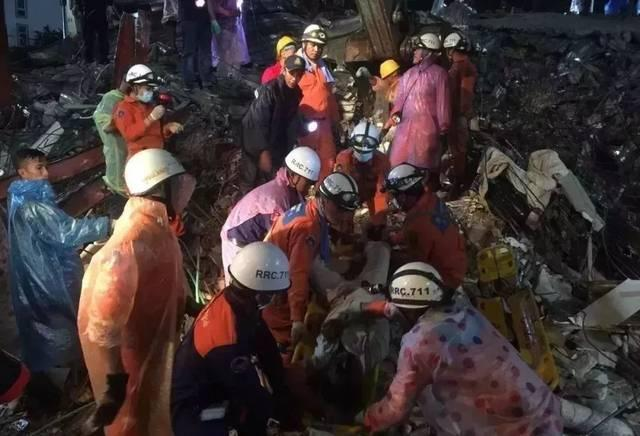helmet: (124, 148, 182, 198), (226, 243, 289, 289), (388, 268, 443, 309), (322, 174, 362, 208), (289, 150, 320, 184), (354, 120, 382, 154), (389, 165, 418, 196), (126, 66, 157, 90), (305, 21, 330, 44), (416, 33, 443, 53), (274, 37, 295, 58), (444, 35, 464, 53), (383, 59, 398, 81)
